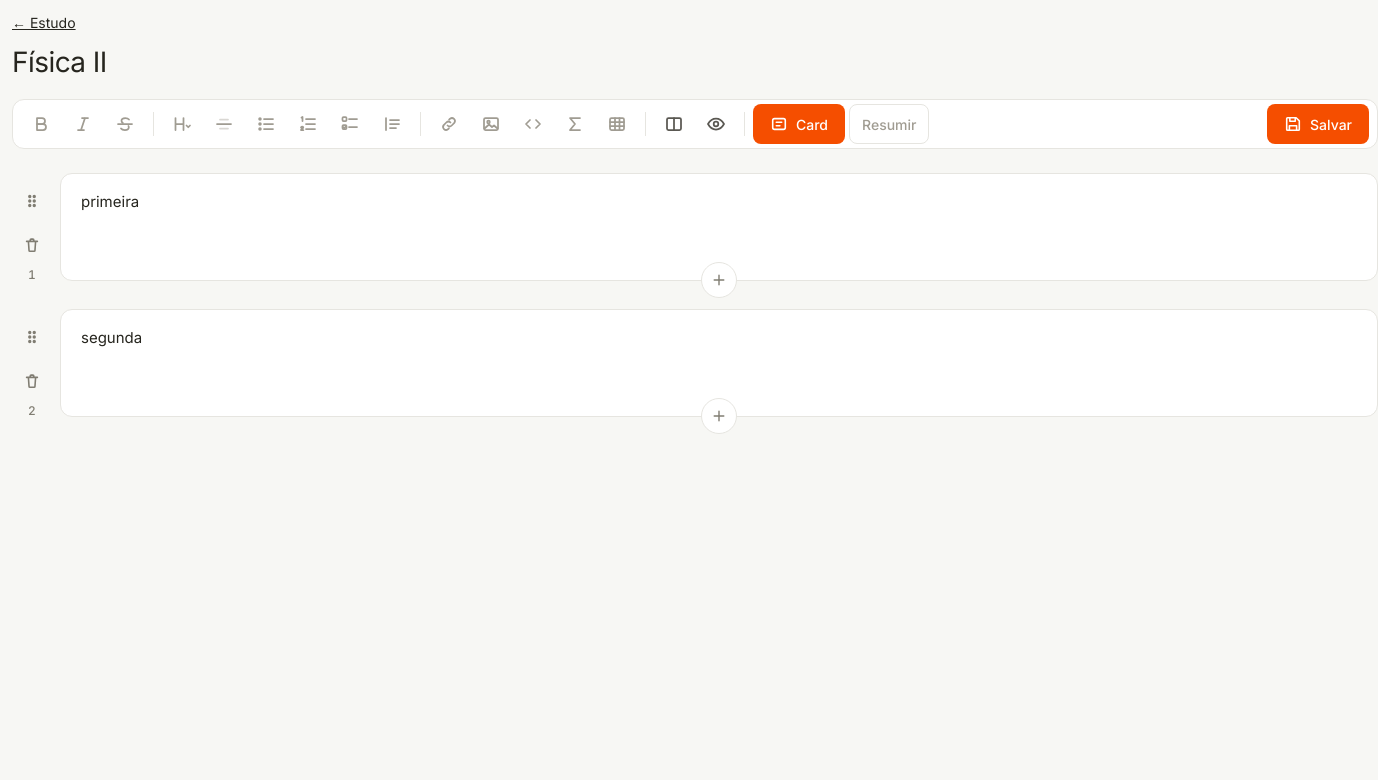
Test: EditorView — células › Adicionar célula abaixo cria a célula logo abaixo já em edição
Click the 1st button named "Adicionar célula abaixo" at (719, 280), box [701, 262, 737, 298]
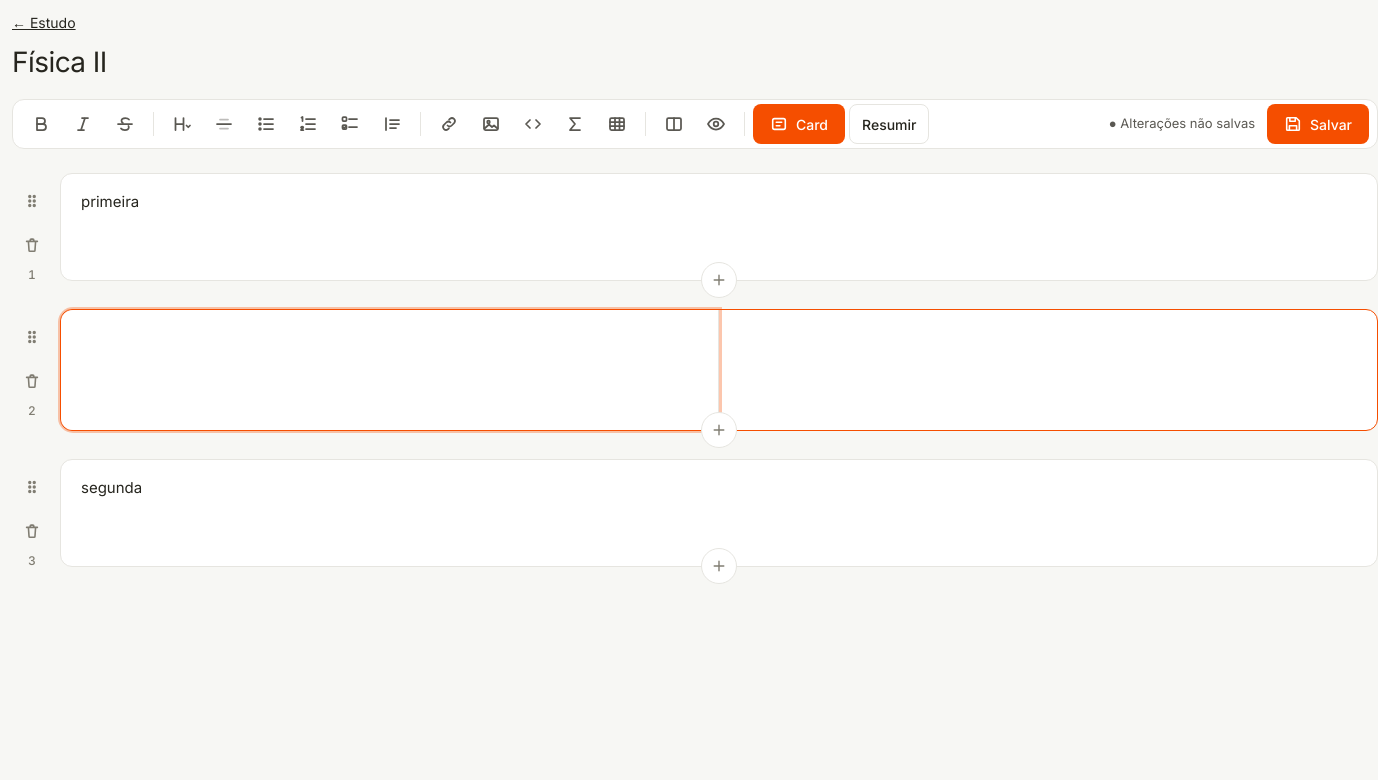
expect the number of elements "1 primeira" is 3: met, box [12, 165, 1377, 289]; [12, 301, 1377, 439]; [12, 451, 1377, 575]
